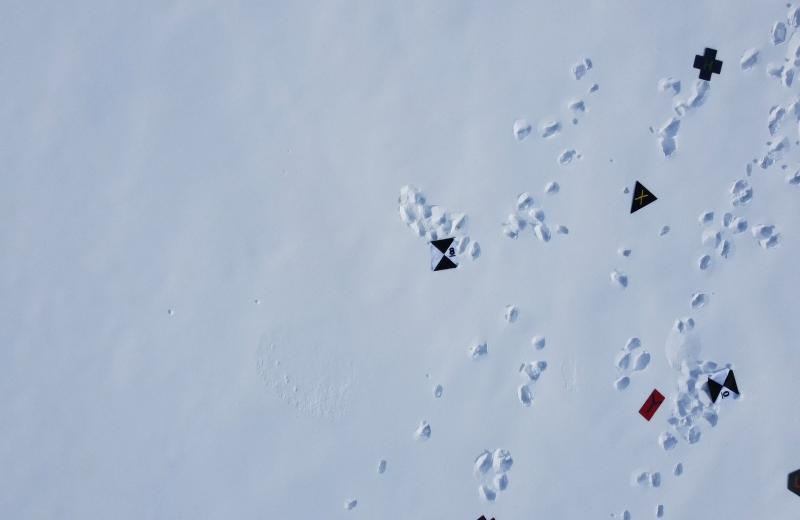Cross: (689, 43, 725, 83)
Hexagon: (781, 464, 800, 498)
Rectangle: (636, 384, 667, 422)
Triangle: (626, 176, 660, 217)
